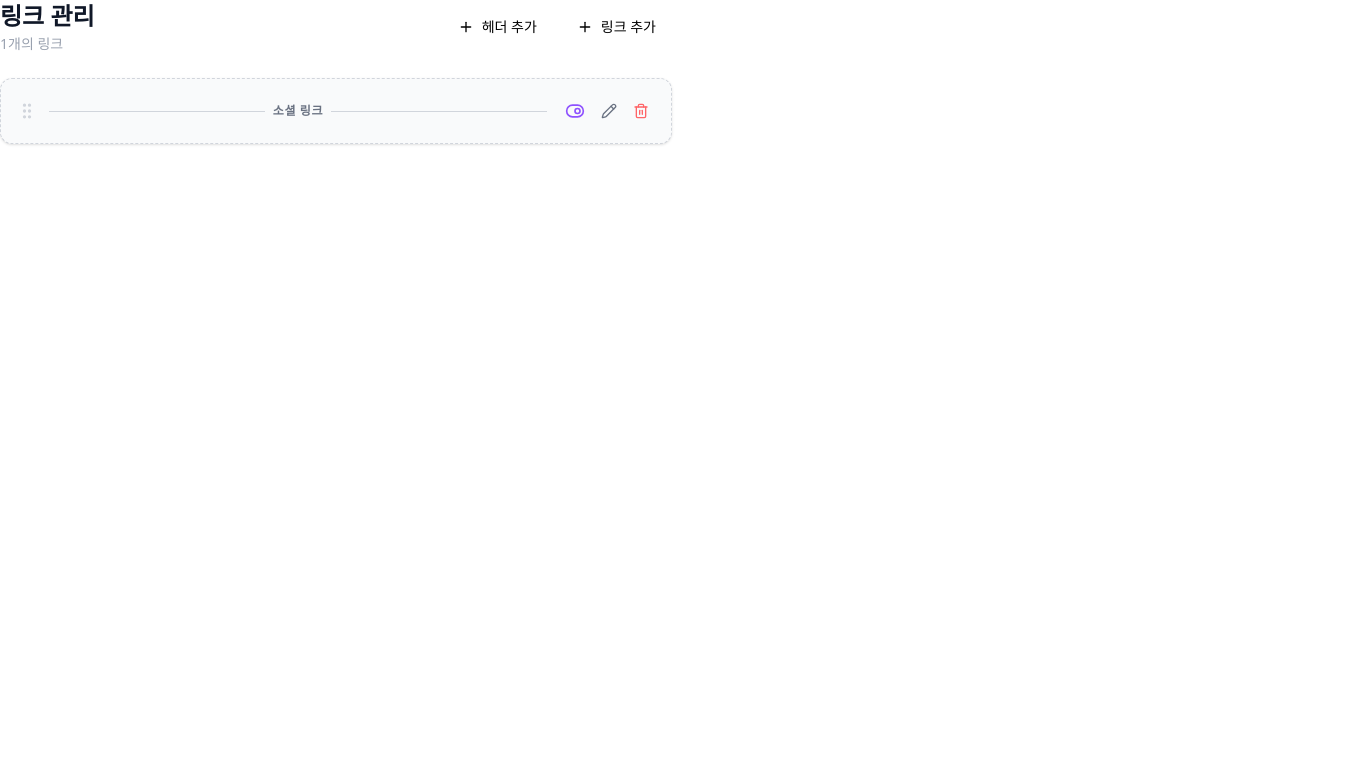
Test: LinkType - 헤더 타입 링크 › 링크 추가 모달을 열면 유형 라디오 버튼이 렌더링된다
This screenshot has width=1366, height=768.
Click the button "링크 추가".
click(616, 27)  # box top-left (561, 7), bottom-right (672, 47)
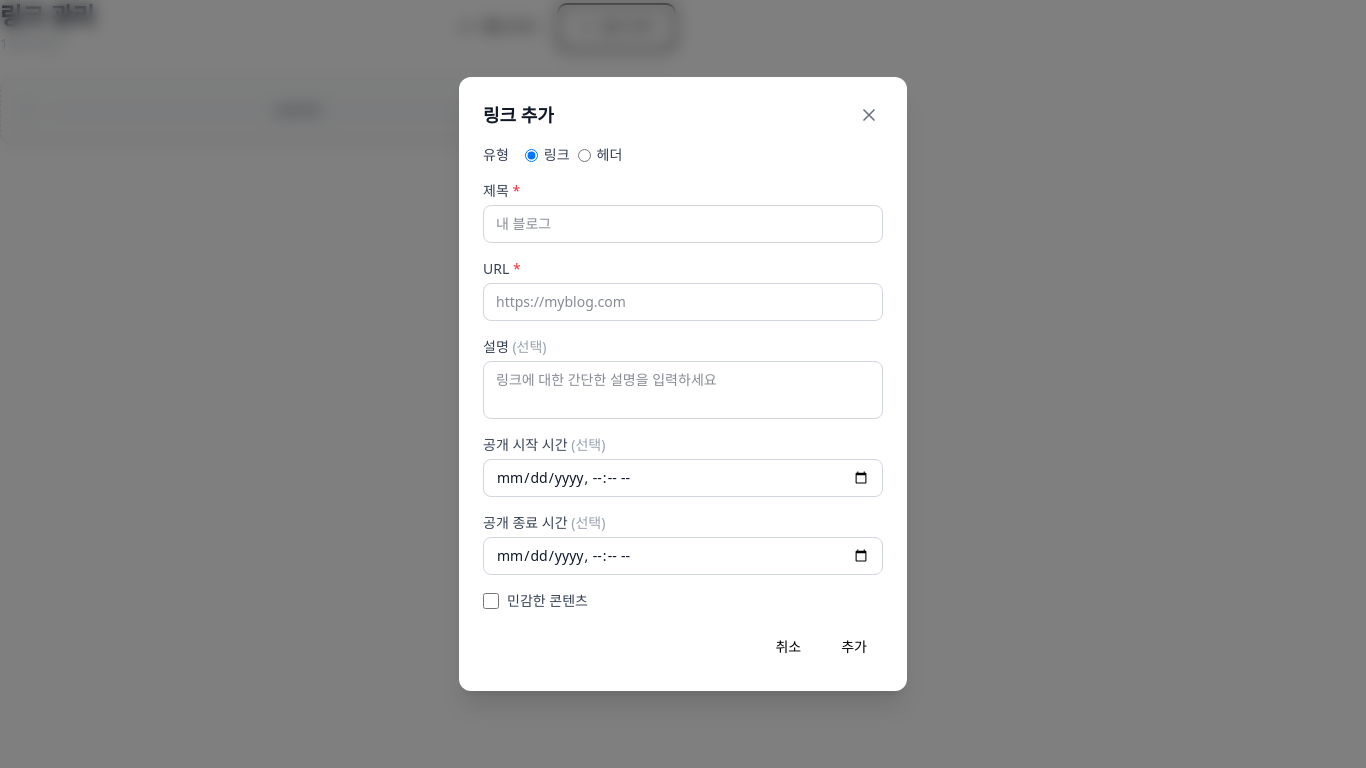
Result: the radio button showing "link" is shown at top-left (525, 148), bottom-right (538, 162)
Result: the radio button showing "header" is shown at top-left (578, 148), bottom-right (590, 162)
